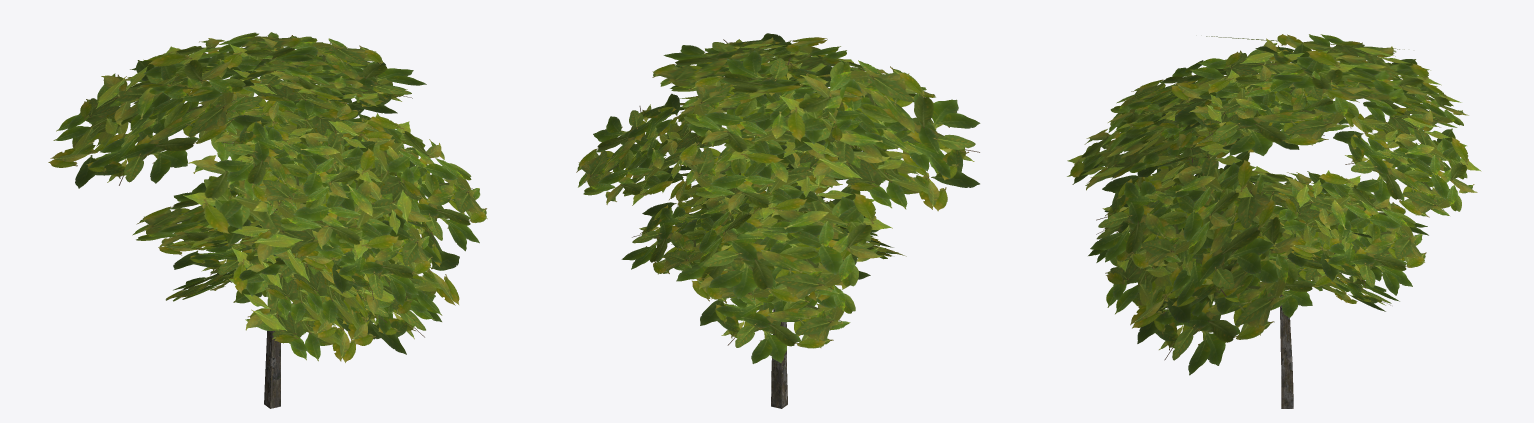
File: tree_b_far.glb
3 renders of one model, left to right at view 1: azimuth 30°, elevation 25°; view 2: azimuth 150°, elevation 25°; view 3: azimuth 270°, elevation 25°, orthographic.
Visible parts, largest first — view 1: tree_b_far; view 2: tree_b_far; view 3: tree_b_far.
Part boxes in pixels (left/top/right/bottom): tree_b_far: left=48, top=32, right=487, bottom=408; tree_b_far: left=576, top=33, right=980, bottom=408; tree_b_far: left=1067, top=34, right=1481, bottom=408.
Size of the model in its own units: 13.42 by 11.07 by 12.69.
2 materials, 2 textured.
